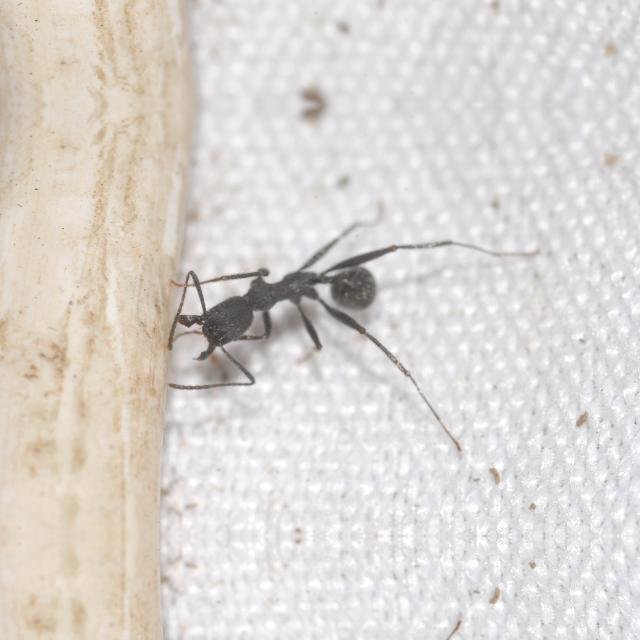Apheanogaster: (157, 228, 411, 376)
